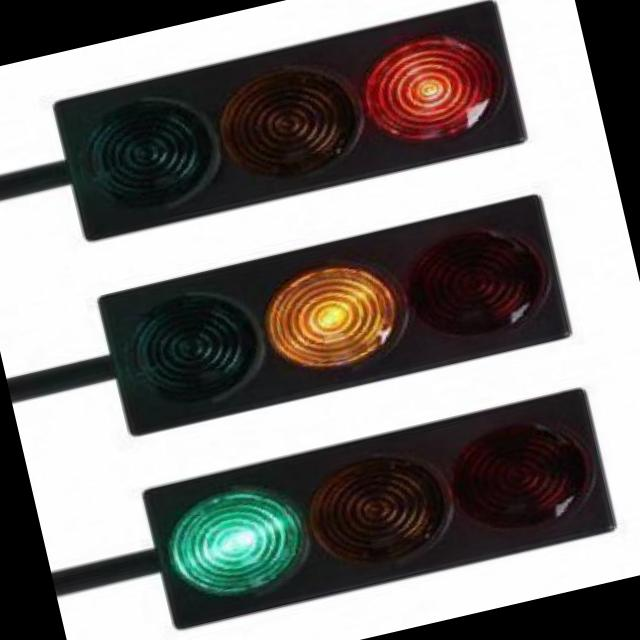green-lights: (149, 464, 323, 626)
red-lights: (338, 0, 527, 171)
yellow-lights: (221, 242, 447, 390)
